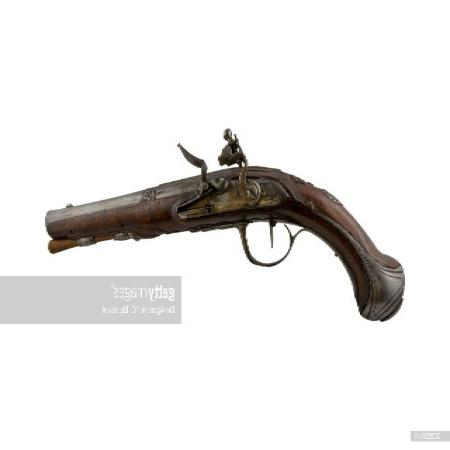Pistol: (44, 126, 406, 320)
